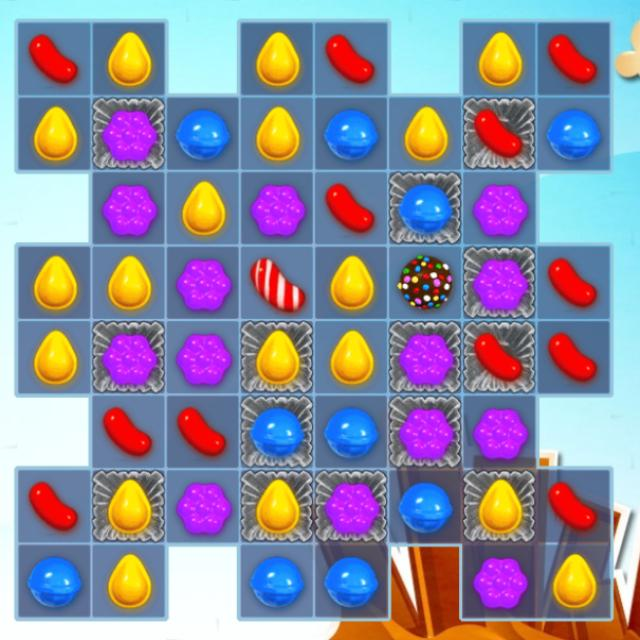blue: (167, 95, 240, 170), (244, 542, 314, 618), (316, 544, 385, 618), (392, 471, 462, 543), (19, 545, 89, 616), (538, 103, 609, 171), (316, 400, 386, 466), (319, 100, 386, 168), (248, 400, 312, 464), (394, 177, 456, 243)
color-bomb: (393, 247, 460, 320)
purple: (464, 544, 537, 617), (90, 173, 164, 244), (91, 100, 164, 171), (169, 246, 236, 320), (94, 322, 163, 392), (463, 251, 531, 321), (318, 473, 388, 541), (244, 175, 314, 242), (169, 472, 236, 542), (170, 320, 236, 391), (388, 326, 458, 391), (467, 177, 533, 244), (390, 400, 459, 464), (463, 402, 534, 464)
red: (536, 20, 610, 100), (17, 20, 91, 97), (240, 246, 314, 318), (93, 397, 164, 468), (537, 250, 609, 320), (315, 22, 386, 92), (318, 174, 388, 244), (20, 472, 88, 541), (538, 474, 611, 538), (536, 326, 606, 389), (466, 105, 534, 169), (168, 400, 236, 462), (467, 330, 532, 393)
yellow: (92, 544, 166, 616), (537, 544, 608, 619), (242, 96, 312, 172), (90, 470, 165, 540), (91, 24, 166, 92), (91, 248, 162, 318), (241, 23, 312, 91), (464, 23, 532, 94), (19, 250, 87, 317), (20, 323, 87, 390), (319, 250, 386, 317), (169, 174, 237, 240), (23, 100, 88, 167), (392, 102, 458, 166), (317, 326, 379, 392), (467, 474, 533, 536), (245, 477, 310, 539), (246, 326, 306, 388)
